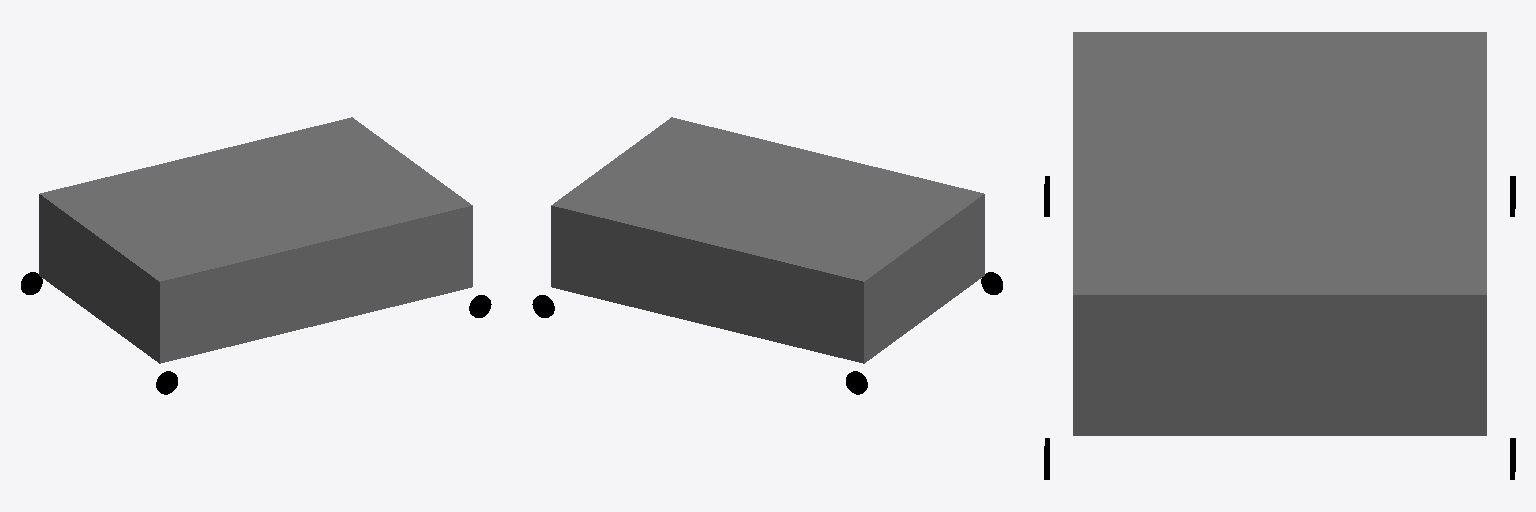
URDF robot description (fw_max):
<?xml version="1.0" ?>
<!-- =================================================================================== -->
<!-- |    This document was autogenerated by xacro from fw-max.xacro                   | -->
<!-- |    EDITING THIS FILE BY HAND IS NOT RECOMMENDED                                 | -->
<!-- =================================================================================== -->
<robot name="fw_max">
  <link name="base_footprint">
    </link>
  <link name="base_link">
    <visual>
      <origin xyz="0 0 0.1" rpy="0 0 0"/>  <!-- Adjust height as needed -->
      <geometry>
        <box size="0.6 0.4 0.15"/>         <!-- Length, Width, Height in meters -->
      </geometry>
      <material name="Gray">
        <color rgba="0.5 0.5 0.5 1.0"/>
      </material>
    </visual>
    <inertial>
      <origin xyz="0 0 0"/>
      <mass value="75"/>
      <inertia ixx="2.8658" ixy="0" ixz="0" iyy="6.7327" iyz="0" izz="7.6506"/>
    </inertial>
  </link>
  <joint name="base_link2base_footprint" type="fixed">
    <parent link="base_footprint"/>
    <child link="base_link"/>
    <origin xyz="0 0 0.032"/>
  </joint>
  <link name="left_steering_hinge">
    <visual>
      <geometry>
        <cylinder length="0.005" radius="0.02"/>
      </geometry>
      <origin rpy="1.57 0 0" xyz="0 0 0"/>
      <material name="black">
        <color rgba="0.0 0.0 0.0 1.0"/>
      </material>
    </visual>
    <collision>
      <geometry>
        <cylinder length="0.005" radius="0.01"/>
      </geometry>
      <origin rpy="1.57 0.0 0.0" xyz="0.0 0.0 0.0"/>
    </collision>
    <inertial>
      <origin xyz="0 0 0"/>
      <mass value="1"/>
      <inertia ixx="2.7E-05" ixy="0" ixz="0" iyy="2.7E-05" iyz="0" izz="5E-05"/>
    </inertial>
  </link>
  <joint name="left_steering_hinge_joint" type="revolute">
    <parent link="base_link"/>
    <child link="left_steering_hinge"/>
    <origin xyz="0.3 0.225 0"/>
    <axis xyz="0 0 1"/>
    <limit effort="50.0" lower="-3.14" upper="3.14" velocity="50.0"/>
  </joint>
  <transmission name="left_steering_hinge_trans">
    <type>transmission_interface/SimpleTransmission</type>
    <joint name="left_steering_hinge_joint">
      <hardwareInterface>position</hardwareInterface>
    </joint>
    <actuator name="left_steering_hinge_motor">
      <mechanicalReduction>1</mechanicalReduction>
    </actuator>
  </transmission>
  <link name="left_front_wheel">
    <visual>
      <geometry>
        <mesh filename="file://[local-path]/projetcs/fw-max-ackerman/install/ackerman_description/share/ackerman_description/meshes/fw-max-luntai.STL" scale="1 1 1"/>
      </geometry>
      <origin rpy="0 3.14 1.57" xyz="0.135 0.055 0.135"/>
      <material name="black">
        <color rgba="0.0 0.0 0.0 1.0"/>
      </material>
    </visual>
    <collision>
      <geometry>
        <cylinder length="0.08" radius="0.125"/>
      </geometry>
      <origin rpy="1.57 0.0 0.0" xyz="0.0 0.0 0.0"/>
    </collision>
    <inertial>
      <origin xyz="0 0 0"/>
      <mass value="1.0"/>
      <inertia ixx="0.006040" ixy="0" ixz="0" iyy="0.006040" iyz="0" izz="0.007812"/>
    </inertial>
  </link>
  <joint name="left_front_wheel_joint" type="continuous">
    <parent link="left_steering_hinge"/>
    <child link="left_front_wheel"/>
    <origin xyz="0 0 0"/>
    <axis xyz="0 1 0"/>
    <limit effort="10" velocity="1000"/>
  </joint>
  <transmission name="left_front_wheel_trans">
    <type>transmission_interface/SimpleTransmission</type>
    <joint name="left_front_wheel_joint">
      <hardwareInterface>velocity</hardwareInterface>
    </joint>
    <actuator name="left_front_wheel_motor">
      <mechanicalReduction>1</mechanicalReduction>
    </actuator>
  </transmission>
  <link name="right_steering_hinge">
    <visual>
      <geometry>
        <cylinder length="0.005" radius="0.02"/>
      </geometry>
      <origin rpy="1.57 0 0" xyz="0 0 0"/>
      <material name="black">
        <color rgba="0.0 0.0 0.0 1.0"/>
      </material>
    </visual>
    <collision>
      <geometry>
        <cylinder length="0.005" radius="0.01"/>
      </geometry>
      <origin rpy="1.57 0.0 0.0" xyz="0.0 0.0 0.0"/>
    </collision>
    <inertial>
      <origin xyz="0 0 0"/>
      <mass value="1"/>
      <inertia ixx="2.7E-05" ixy="0" ixz="0" iyy="2.7E-05" iyz="0" izz="5E-05"/>
    </inertial>
  </link>
  <joint name="right_steering_hinge_joint" type="revolute">
    <parent link="base_link"/>
    <child link="right_steering_hinge"/>
    <origin xyz="0.3 -0.225 0"/>
    <axis xyz="0 0 1"/>
    <limit effort="50.0" lower="-3.14" upper="3.14" velocity="50.0"/>
    <mimic joint="left_steering_hinge_joint" multiplier="1.0" offset="0.0"/>
  </joint>
  <transmission name="right_steering_hinge_trans">
    <type>transmission_interface/SimpleTransmission</type>
    <joint name="right_steering_hinge_joint">
      <hardwareInterface>position</hardwareInterface>
    </joint>
    <actuator name="right_steering_hinge_motor">
      <mechanicalReduction>1</mechanicalReduction>
    </actuator>
  </transmission>
  <link name="right_front_wheel">
    <visual>
      <geometry>
        <mesh filename="file://[local-path]/projetcs/fw-max-ackerman/install/ackerman_description/share/ackerman_description/meshes/fw-max-luntai.STL" scale="1 1 1"/>
      </geometry>
      <origin rpy="0 0 1.57" xyz="0.135 -0.055 -0.135"/>
      <material name="black">
        <color rgba="0.0 0.0 0.0 1.0"/>
      </material>
    </visual>
    <collision>
      <geometry>
        <cylinder length="0.08" radius="0.125"/>
      </geometry>
      <origin rpy="1.57 0.0 0.0" xyz="0.0 0.0 0.0"/>
    </collision>
    <inertial>
      <origin xyz="0 0 0"/>
      <mass value="1.0"/>
      <inertia ixx="0.006040" ixy="0" ixz="0" iyy="0.006040" iyz="0" izz="0.007812"/>
    </inertial>
  </link>
  <joint name="right_front_wheel_joint" type="continuous">
    <parent link="right_steering_hinge"/>
    <child link="right_front_wheel"/>
    <origin xyz="0 0 0"/>
    <axis xyz="0 1 0"/>
    <limit effort="10" velocity="1000"/>
  </joint>
  <transmission name="right_front_wheel_trans">
    <type>transmission_interface/SimpleTransmission</type>
    <joint name="right_front_wheel_joint">
      <hardwareInterface>velocity</hardwareInterface>
    </joint>
    <actuator name="right_front_wheel_motor">
      <mechanicalReduction>1</mechanicalReduction>
    </actuator>
  </transmission>
  <link name="rear_left_steering_hinge">
    <visual>
      <geometry>
        <cylinder length="0.005" radius="0.02"/>
      </geometry>
      <origin rpy="1.57 0 0" xyz="0 0 0"/>
      <material name="black">
        <color rgba="0.0 0.0 0.0 1.0"/>
      </material>
    </visual>
    <collision>
      <geometry>
        <cylinder length="0.005" radius="0.01"/>
      </geometry>
      <origin rpy="1.57 0.0 0.0" xyz="0.0 0.0 0.0"/>
    </collision>
    <inertial>
      <origin xyz="0 0 0"/>
      <mass value="1"/>
      <inertia ixx="2.7E-05" ixy="0" ixz="0" iyy="2.7E-05" iyz="0" izz="5E-05"/>
    </inertial>
  </link>
  <joint name="rear_left_steering_hinge_joint" type="revolute">
    <parent link="base_link"/>
    <child link="rear_left_steering_hinge"/>
    <origin xyz="-0.3 0.225 0"/>
    <axis xyz="0 0 1"/>
    <limit effort="50.0" lower="-3.14" upper="3.14" velocity="50.0"/>
    <mimic joint="left_steering_hinge_joint" multiplier="-1.0" offset="0.0"/>
  </joint>
  <transmission name="rear_left_steering_hinge_trans">
    <type>transmission_interface/SimpleTransmission</type>
    <joint name="rear_left_steering_hinge_joint">
      <hardwareInterface>position</hardwareInterface>
    </joint>
    <actuator name="rear_left_steering_hinge_motor">
      <mechanicalReduction>1</mechanicalReduction>
    </actuator>
  </transmission>
  <link name="left_rear_wheel">
    <visual>
      <geometry>
        <mesh filename="file://[local-path]/projetcs/fw-max-ackerman/install/ackerman_description/share/ackerman_description/meshes/fw-max-luntai.STL" scale="1 1 1"/>
      </geometry>
      <origin rpy="0 3.14 1.57" xyz="0.135 0.055 0.135"/>
      <material name="black">
        <color rgba="0.0 0.0 0.0 1.0"/>
      </material>
    </visual>
    <collision>
      <geometry>
        <cylinder length="0.08" radius="0.125"/>
      </geometry>
      <origin rpy="1.57 0.0 0.0" xyz="0.0 0.0 0.0"/>
    </collision>
    <inertial>
      <origin xyz="0 0 0"/>
      <mass value="1.0"/>
      <inertia ixx="0.006040" ixy="0" ixz="0" iyy="0.006040" iyz="0" izz="0.007812"/>
    </inertial>
  </link>
  <joint name="left_rear_wheel_joint" type="continuous">
    <parent link="rear_left_steering_hinge"/>
    <child link="left_rear_wheel"/>
    <origin xyz="0 0.0 0"/>
    <axis xyz="0 1 0"/>
    <limit effort="10" velocity="1000"/>
  </joint>
  <transmission name="left_rear_wheel_trans">
    <type>transmission_interface/SimpleTransmission</type>
    <joint name="left_rear_wheel_joint">
      <hardwareInterface>velocity</hardwareInterface>
    </joint>
    <actuator name="left_rear_wheel_motor">
      <mechanicalReduction>1</mechanicalReduction>
    </actuator>
  </transmission>
  <link name="rear_right_steering_hinge">
    <visual>
      <geometry>
        <cylinder length="0.005" radius="0.02"/>
      </geometry>
      <origin rpy="1.57 0 0" xyz="0 0 0"/>
      <material name="black">
        <color rgba="0.0 0.0 0.0 1.0"/>
      </material>
    </visual>
    <collision>
      <geometry>
        <cylinder length="0.005" radius="0.01"/>
      </geometry>
      <origin rpy="1.57 0.0 0.0" xyz="0.0 0.0 0.0"/>
    </collision>
    <inertial>
      <origin xyz="0 0 0"/>
      <mass value="1"/>
      <inertia ixx="2.7E-05" ixy="0" ixz="0" iyy="2.7E-05" iyz="0" izz="5E-05"/>
    </inertial>
  </link>
  <joint name="rear_right_steering_hinge_joint" type="revolute">
    <parent link="base_link"/>
    <child link="rear_right_steering_hinge"/>
    <origin xyz="-0.3 -0.225 0"/>
    <axis xyz="0 0 1"/>
    <limit effort="50.0" lower="-3.14" upper="3.14" velocity="50.0"/>
    <mimic joint="left_steering_hinge_joint" multiplier="-1.0" offset="0.0"/>
  </joint>
  <transmission name="rear_right_steering_hinge_trans">
    <type>transmission_interface/SimpleTransmission</type>
    <joint name="rear_right_steering_hinge_joint">
      <hardwareInterface>position</hardwareInterface>
    </joint>
    <actuator name="rear_right_steering_hinge_motor">
      <mechanicalReduction>1</mechanicalReduction>
    </actuator>
  </transmission>
  <link name="right_rear_wheel">
    <visual>
      <geometry>
        <mesh filename="file://[local-path]/projetcs/fw-max-ackerman/install/ackerman_description/share/ackerman_description/meshes/fw-max-luntai.STL" scale="1 1 1"/>
      </geometry>
      <origin rpy="0 0 1.57" xyz="0.135 -0.055 -0.135"/>
      <material name="black">
        <color rgba="0.0 0.0 0.0 1.0"/>
      </material>
    </visual>
    <collision>
      <geometry>
        <cylinder length="0.08" radius="0.125"/>
      </geometry>
      <origin rpy="1.57 0.0 0.0" xyz="0.0 0.0 0.0"/>
    </collision>
    <inertial>
      <origin xyz="0 0 0"/>
      <mass value="1.0"/>
      <inertia ixx="0.006040" ixy="0" ixz="0" iyy="0.006040" iyz="0" izz="0.007812"/>
    </inertial>
  </link>
  <joint name="right_rear_wheel_joint" type="continuous">
    <parent link="rear_right_steering_hinge"/>
    <child link="right_rear_wheel"/>
    <origin xyz="0 0.0 0"/>
    <axis xyz="0 1 0"/>
    <limit effort="10" velocity="1000"/>
  </joint>
  <transmission name="right_rear_wheel_trans">
    <type>transmission_interface/SimpleTransmission</type>
    <joint name="right_rear_wheel_joint">
      <hardwareInterface>velocity</hardwareInterface>
    </joint>
    <actuator name="right_rear_wheel_motor">
      <mechanicalReduction>1</mechanicalReduction>
    </actuator>
  </transmission>
  <transmission name="left_rear_wheel_joint_transmission">
    <type>transmission_interface/SimpleTransmission</type>
    <joint name="left_rear_wheel_joint">
      <hardwareInterface>velocity</hardwareInterface>
    </joint>
    <actuator name="left_rear_wheel_joint_actuator">
      <hardwareInterface>velocity</hardwareInterface>
      <mechanicalReduction>1</mechanicalReduction>
    </actuator>
  </transmission>
  <transmission name="right_rear_wheel_joint_transmission">
    <type>transmission_interface/SimpleTransmission</type>
    <joint name="right_rear_wheel_joint">
      <hardwareInterface>velocity</hardwareInterface>
    </joint>
    <actuator name="right_rear_wheel_joint_actuator">
      <hardwareInterface>velocity</hardwareInterface>
      <mechanicalReduction>1</mechanicalReduction>
    </actuator>
  </transmission>
  <transmission name="left_front_wheel_joint_transmission">
    <type>transmission_interface/SimpleTransmission</type>
    <joint name="left_front_wheel_joint">
      <hardwareInterface>velocity</hardwareInterface>
    </joint>
    <actuator name="left_front_wheel_joint_actuator">
      <hardwareInterface>velocity</hardwareInterface>
      <mechanicalReduction>1</mechanicalReduction>
    </actuator>
  </transmission>
  <transmission name="right_front_wheel_joint_transmission">
    <type>transmission_interface/SimpleTransmission</type>
    <joint name="right_front_wheel_joint">
      <hardwareInterface>velocity</hardwareInterface>
    </joint>
    <actuator name="right_front_wheel_joint_actuator">
      <hardwareInterface>velocity</hardwareInterface>
      <mechanicalReduction>1</mechanicalReduction>
    </actuator>
  </transmission>
  <transmission name="left_steering_hinge_joint_transmission">
    <type>transmission_interface/SimpleTransmission</type>
    <joint name="left_steering_hinge_joint">
      <hardwareInterface>position</hardwareInterface>
    </joint>
    <actuator name="left_steering_hinge_joint_actuator">
      <hardwareInterface>position</hardwareInterface>
      <mechanicalReduction>1</mechanicalReduction>
    </actuator>
  </transmission>
  <transmission name="right_steering_hinge_joint_transmission">
    <type>transmission_interface/SimpleTransmission</type>
    <joint name="right_steering_hinge_joint">
      <hardwareInterface>position</hardwareInterface>
    </joint>
    <actuator name="right_steering_hinge_joint_actuator">
      <hardwareInterface>position</hardwareInterface>
      <mechanicalReduction>1</mechanicalReduction>
    </actuator>
  </transmission>
  <transmission name="rear_left_steering_hinge_joint_transmission">
    <type>transmission_interface/SimpleTransmission</type>
    <joint name="rear_left_steering_hinge_joint">
      <hardwareInterface>position</hardwareInterface>
    </joint>
    <actuator name="rear_left_steering_hinge_joint_actuator">
      <hardwareInterface>position</hardwareInterface>
      <mechanicalReduction>1</mechanicalReduction>
    </actuator>
  </transmission>
  <transmission name="rear_right_steering_hinge_joint_transmission">
    <type>transmission_interface/SimpleTransmission</type>
    <joint name="rear_right_steering_hinge_joint">
      <hardwareInterface>position</hardwareInterface>
    </joint>
    <actuator name="rear_right_steering_hinge_joint_actuator">
      <hardwareInterface>position</hardwareInterface>
      <mechanicalReduction>1</mechanicalReduction>
    </actuator>
  </transmission>
  <gazebo reference="base_link">
    <mu1 value="0.0"/>
    <mu2 value="0.0"/>
    <material>Gazebo/Red</material>
  </gazebo>
  <gazebo reference="left_rear_wheel">
    <mu1 value="10.0"/>
    <mu2 value="10.0"/>
    <material>Gazebo/Black</material>
  </gazebo>
  <gazebo reference="right_rear_wheel">
    <mu1 value="10.0"/>
    <mu2 value="10.0"/>
    <material>Gazebo/Black</material>
  </gazebo>
  <gazebo reference="left_front_wheel">
    <mu1 value="10.0"/>
    <mu2 value="10.0"/>
    <material>Gazebo/Black</material>
  </gazebo>
  <gazebo reference="right_front_wheel">
    <mu1 value="10.0"/>
    <mu2 value="10.0"/>
    <material>Gazebo/Black</material>
  </gazebo>
  <ros2_control name="FWMaxRobot" type="system">
    <hardware>
      <plugin>gazebo_ros2_control/GazeboSystem</plugin>
    </hardware>
    <joint name="left_steering_hinge_joint">
      <command_interface name="position"/>
      <state_interface name="position"/>
      <state_interface name="effort"/>
    </joint>
    <joint name="right_steering_hinge_joint">
      <command_interface name="position"/>
      <state_interface name="position"/>
      <state_interface name="effort"/>
    </joint>
    <joint name="rear_left_steering_hinge_joint">
      <command_interface name="position"/>
      <state_interface name="position"/>
      <state_interface name="effort"/>
    </joint>
    <joint name="rear_right_steering_hinge_joint">
      <command_interface name="position"/>
      <state_interface name="position"/>
      <state_interface name="effort"/>
    </joint>
    <joint name="left_front_wheel_joint">
      <command_interface name="velocity"/>
      <state_interface name="velocity"/>
      <state_interface name="position"/>
      <state_interface name="effort"/>
    </joint>
    <joint name="right_front_wheel_joint">
      <command_interface name="velocity"/>
      <state_interface name="velocity"/>
      <state_interface name="position"/>
      <state_interface name="effort"/>
    </joint>
    <joint name="left_rear_wheel_joint">
      <command_interface name="velocity"/>
      <state_interface name="velocity"/>
      <state_interface name="position"/>
      <state_interface name="effort"/>
    </joint>
    <joint name="right_rear_wheel_joint">
      <command_interface name="velocity"/>
      <state_interface name="velocity"/>
      <state_interface name="position"/>
      <state_interface name="effort"/>
    </joint>
  </ros2_control>
  <gazebo>
    <plugin filename="libgazebo_ros2_control.so" name="gazebo_ros2_control">
      <robot_param>robot_description</robot_param>
      <robot_param_node>robot_state_publisher</robot_param_node>
      <parameters>[local-path]/projetcs/fw-max-ackerman/install/ackerman_description/share/ackerman_description/config/fw_max_controllers.yaml</parameters>
    </plugin>
  </gazebo>
</robot>

--- Render facts (derived) ---
Views: 3 orthographic renders of the robot side by side, from view 1: azimuth 30°, elevation 25°; view 2: azimuth 150°, elevation 25°; view 3: azimuth 270°, elevation 25°.
Model fw_max with 10 links and 9 joints (4 revolute, 4 continuous, 1 fixed), rooted at base_footprint, posed every joint at zero.
Links seen in each view (by area): view 1: base_link; view 2: base_link; view 3: base_link.
Boxes of the visible links, x1,y1,x2,y2 form: base_link: (39, 117, 472, 363); base_link: (551, 117, 984, 363); base_link: (1073, 32, 1486, 435).
Bounding box of the posed robot: 0.64 × 0.455 × 0.195 m (x, y, z).
Geometry: only primitive shapes (box / cylinder / sphere) drawn; not drawn: 4 mesh visuals (reference in a form the renderer does not follow).
